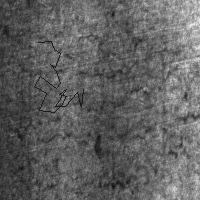crazing: (15, 34, 156, 144), (34, 41, 83, 112)
